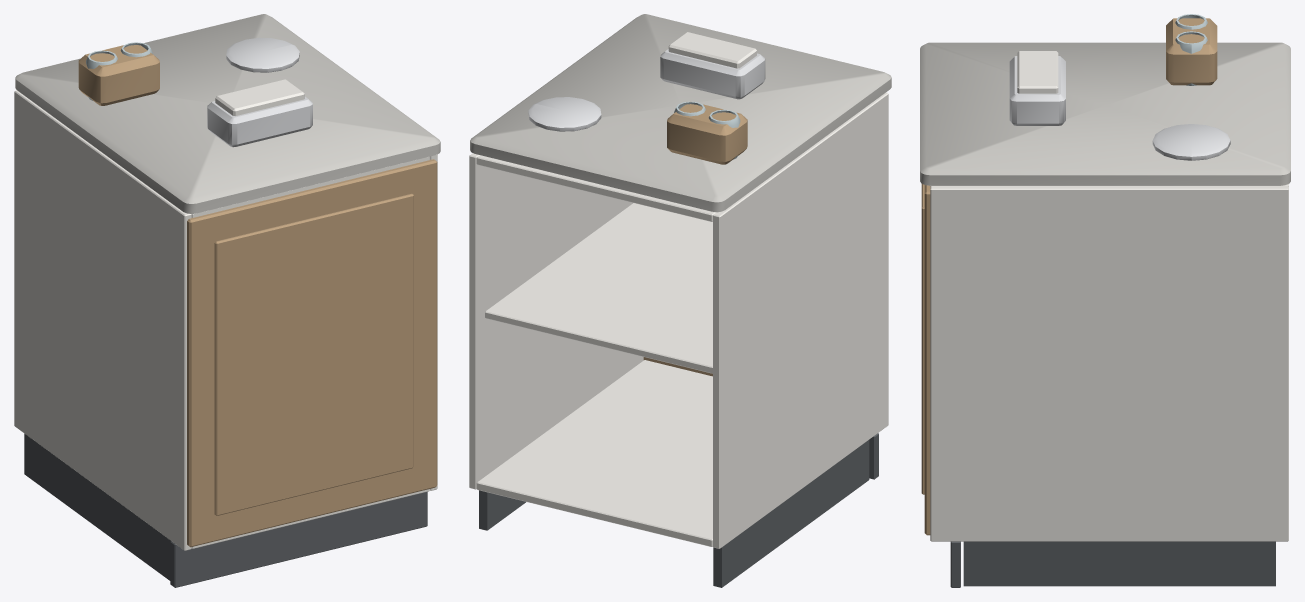
Rendered from bakery-and-cafe-condiment-bar-15605fbe__22136.glb.
3 views of the same model, side by side, from view 1: azimuth 30°, elevation 25°; view 2: azimuth 150°, elevation 25°; view 3: azimuth 270°, elevation 25° (orthographic). The views are drawn at different scales.
Parts seen in each view (by area): view 1: condiment-bar; view 2: condiment-bar; view 3: condiment-bar.
Boxes of the visible parts, x1,y1,x2,y2 form: condiment-bar: [14, 14, 440, 587]; condiment-bar: [469, 14, 891, 587]; condiment-bar: [920, 14, 1290, 587].
Bounding box in the file's own units: 0.606 × 0.99 × 0.724.
